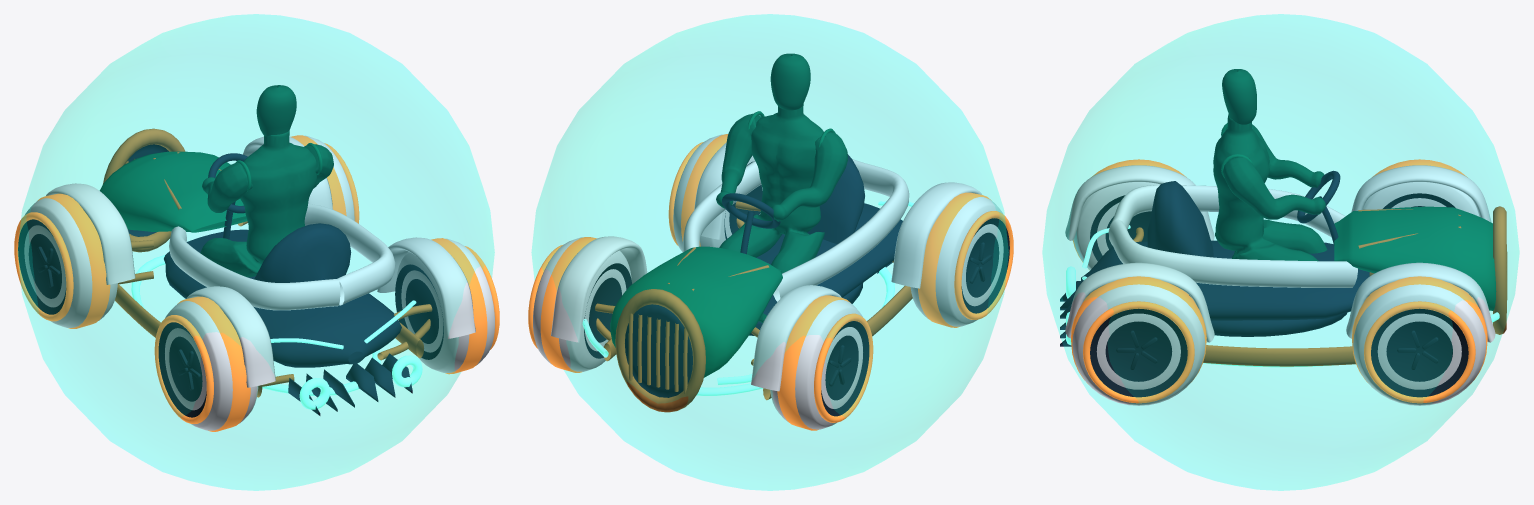
Rendered from collective.glb.
The picture shows the model from 3 angles, left to right: view 1: azimuth 30°, elevation 25°; view 2: azimuth 150°, elevation 25°; view 3: azimuth 270°, elevation 25°; orthographic projection.
Parts seen in each view (by area): view 1: collective:aegis-shield, collective:coachwork-batch.001, collective:coachwork-batch, collective:torso, collective:sculpted-coachwork, collective:coachwork-batch.002, collective:rounded-wheel-shell, collective:rounded-wheel-shell.002, collective:rounded-wheel-shell.003, collective:translucent-tire-band.002, collective:translucent-tire-band, collective:recessed-colored-hub.002 (+14 smaller); view 2: collective:aegis-shield, collective:coachwork-batch.001, collective:sculpted-coachwork, collective:coachwork-batch, collective:torso, collective:coachwork-batch.002, collective:rounded-wheel-shell, collective:rounded-wheel-shell.002, collective:rounded-wheel-shell.001, collective:arm-l-mesh, collective:translucent-tire-band, collective:translucent-tire-band.002 (+14 smaller); view 3: collective:aegis-shield, collective:coachwork-batch.001, collective:coachwork-batch, collective:sculpted-coachwork, collective:torso, collective:rounded-wheel-shell.001, collective:rounded-wheel-shell.003, collective:coachwork-batch.002, collective:recessed-colored-hub.003, collective:recessed-colored-hub.001, collective:arm-r-mesh, collective:wheel-light-ring.003 (+9 smaller).
Part boxes in pixels (bbox=[...]): collective:aegis-shield: bbox=[17, 14, 494, 490]; collective:coachwork-batch.001: bbox=[46, 136, 475, 387]; collective:coachwork-batch: bbox=[127, 144, 412, 415]; collective:torso: bbox=[200, 130, 316, 277]; collective:sculpted-coachwork: bbox=[99, 151, 247, 232]; collective:coachwork-batch.002: bbox=[102, 128, 432, 397]; collective:rounded-wheel-shell: bbox=[24, 198, 117, 327]; collective:rounded-wheel-shell.002: bbox=[165, 301, 258, 430]; collective:rounded-wheel-shell.003: bbox=[396, 238, 494, 372]; collective:translucent-tire-band.002: bbox=[177, 296, 250, 431]; collective:translucent-tire-band: bbox=[37, 193, 110, 328]; collective:recessed-colored-hub.002: bbox=[158, 322, 206, 417]; collective:aegis-shield: bbox=[531, 14, 1008, 490]; collective:coachwork-batch.001: bbox=[551, 142, 981, 391]; collective:sculpted-coachwork: bbox=[610, 246, 782, 377]; collective:coachwork-batch: bbox=[625, 154, 902, 397]; collective:torso: bbox=[719, 104, 824, 322]; collective:coachwork-batch.002: bbox=[595, 201, 912, 412]; collective:rounded-wheel-shell: bbox=[770, 300, 862, 429]; collective:rounded-wheel-shell.002: bbox=[910, 197, 1003, 326]; collective:rounded-wheel-shell.001: bbox=[533, 237, 631, 371]; collective:arm-l-mesh: bbox=[771, 132, 847, 221]; collective:translucent-tire-band: bbox=[777, 295, 850, 430]; collective:translucent-tire-band.002: bbox=[918, 192, 991, 327]; collective:aegis-shield: bbox=[1042, 14, 1519, 490]; collective:coachwork-batch.001: bbox=[1065, 165, 1495, 342]; collective:coachwork-batch: bbox=[1060, 181, 1369, 346]; collective:sculpted-coachwork: bbox=[1334, 206, 1496, 310]; collective:torso: bbox=[1213, 114, 1327, 261]; collective:rounded-wheel-shell.001: bbox=[1353, 284, 1486, 405]; collective:rounded-wheel-shell.003: bbox=[1072, 284, 1205, 405]; collective:coachwork-batch.002: bbox=[1133, 206, 1507, 366]; collective:recessed-colored-hub.003: bbox=[1090, 308, 1187, 397]; collective:recessed-colored-hub.001: bbox=[1371, 308, 1468, 397]; collective:arm-r-mesh: bbox=[1223, 157, 1325, 219]; collective:wheel-light-ring.003: bbox=[1083, 301, 1194, 403].
Size of the model in its own units: 4.3 by 4.3 by 4.3.
